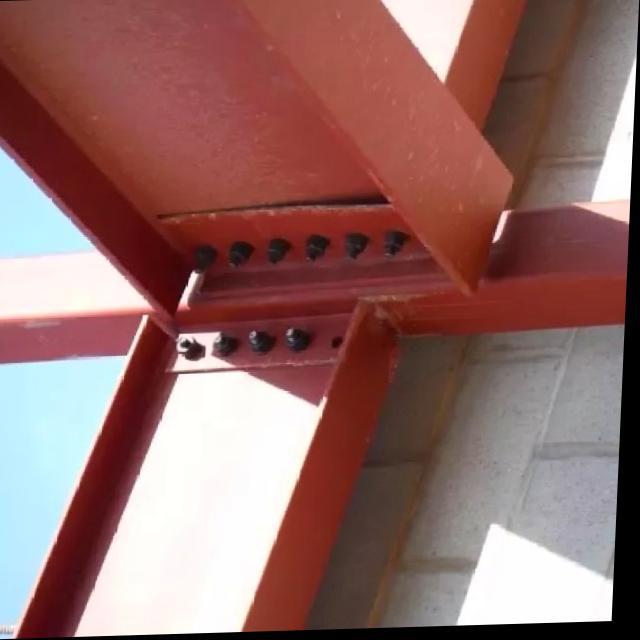Missing bolt: (334, 334, 350, 354)
Rusty bolt: (193, 238, 224, 278), (176, 336, 209, 369), (215, 330, 245, 362), (253, 330, 284, 360), (386, 230, 415, 262), (346, 234, 377, 263), (306, 237, 334, 264), (267, 239, 293, 266), (287, 329, 314, 354), (229, 242, 255, 266)
